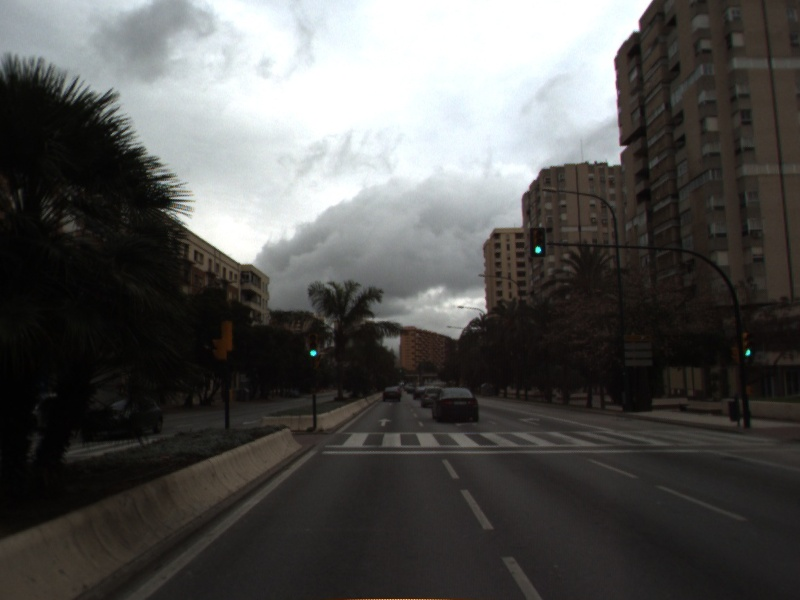RIGHT: (516, 415, 543, 428)
STRAIGHT: (375, 416, 395, 428)
